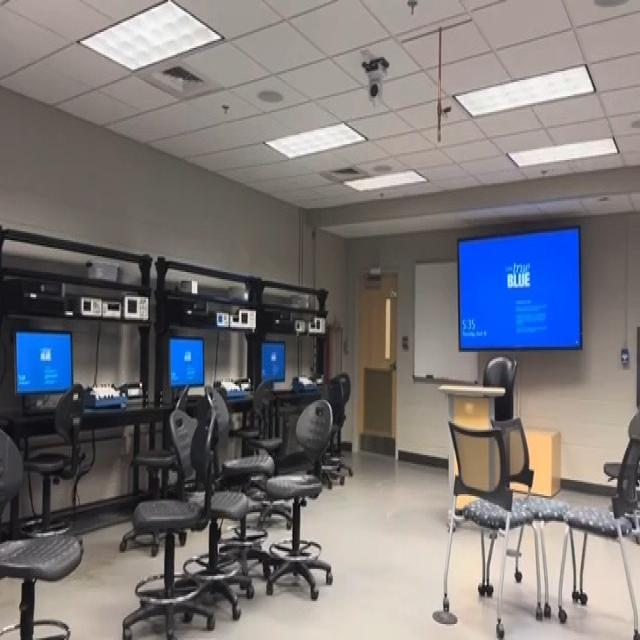drone: (385, 282, 403, 308)
